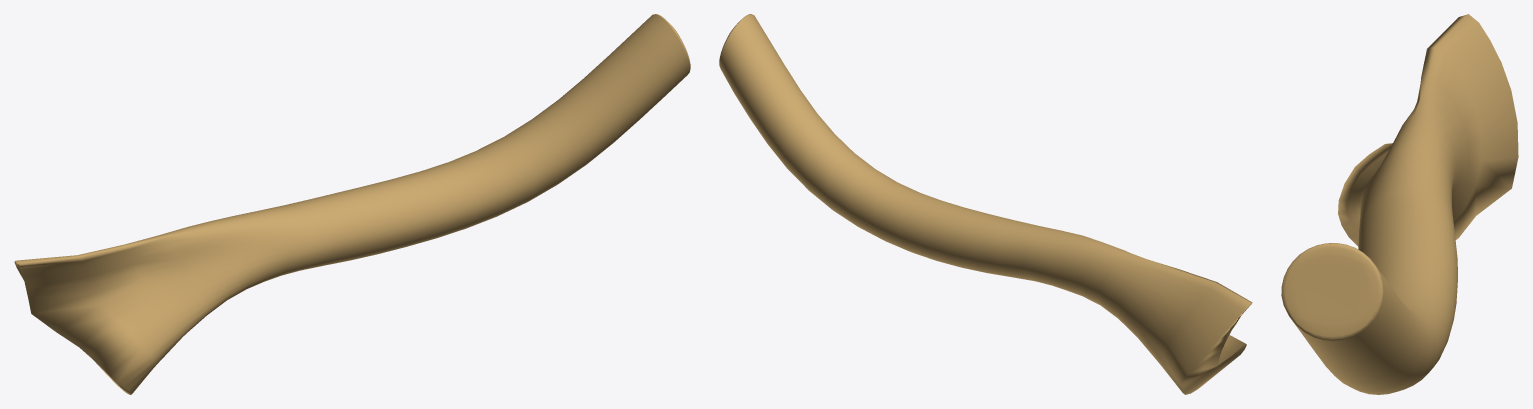
3 renders of one model, left to right at view 1: azimuth 30°, elevation 25°; view 2: azimuth 150°, elevation 25°; view 3: azimuth 270°, elevation 25°, orthographic. The views are drawn at different scales.
Parts seen in each view (by area): view 1: 蜗神经; view 2: 蜗神经; view 3: 蜗神经.
Boxes of the visible parts, left/top/right/bottom form: 蜗神经: left=14, top=14, right=690, bottom=394; 蜗神经: left=719, top=14, right=1252, bottom=394; 蜗神经: left=1281, top=14, right=1518, bottom=394.
Bounding box in the file's own units: 0.032 × 0.0131 × 0.00744.
